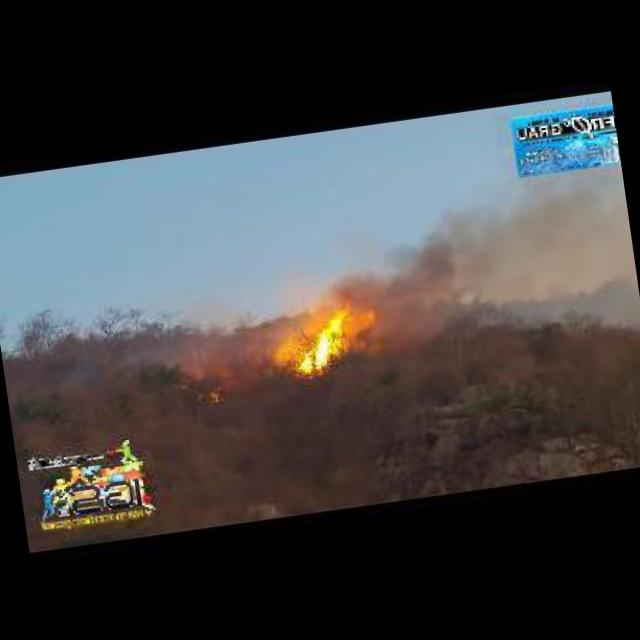fire: (282, 303, 376, 375), (210, 390, 224, 402)
smoke: (327, 218, 477, 345)
